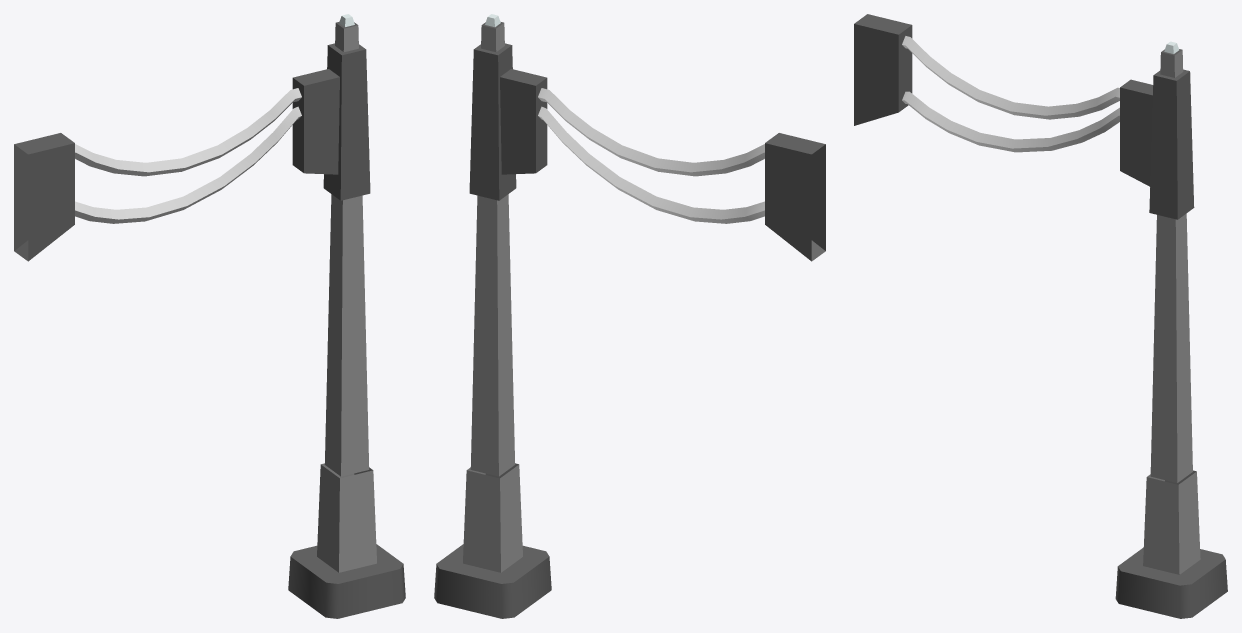
File: Cable_Pole2.fbx
3 renders of one model, left to right at view 1: azimuth 30°, elevation 25°; view 2: azimuth 150°, elevation 25°; view 3: azimuth 330°, elevation 25°, orthographic. The views are drawn at different scales.
Visible parts, largest first — view 1: Cable_Pole_1C002; view 2: Cable_Pole_1C002; view 3: Cable_Pole_1C002.
Part boxes in pixels (x1,y1,x2,y2): Cable_Pole_1C002: (14,14,405,618); Cable_Pole_1C002: (434,14,825,618); Cable_Pole_1C002: (854,14,1227,618).
Size of the model in its own units: 6774 by 10220 by 1485.
